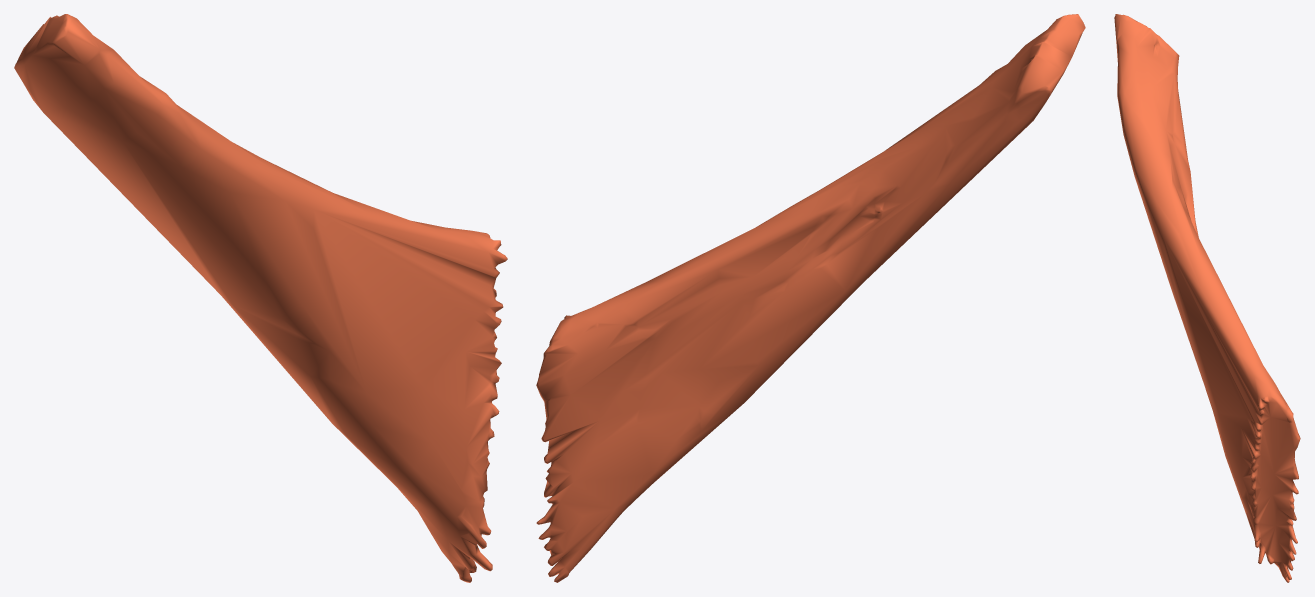
Rendered from Adductor_minimus.l_Generated_Mesh_From_X3D.1010.glb.
3 views of the same model, side by side, from view 1: azimuth 30°, elevation 25°; view 2: azimuth 150°, elevation 25°; view 3: azimuth 270°, elevation 25° (orthographic). The views are drawn at different scales.
Visible parts, largest first — view 1: Adductor_minimus.l_Generated_Mesh_From_X3D.1010; view 2: Adductor_minimus.l_Generated_Mesh_From_X3D.1010; view 3: Adductor_minimus.l_Generated_Mesh_From_X3D.1010.
Part boxes in pixels (x1,y1,x2,y2): Adductor_minimus.l_Generated_Mesh_From_X3D.1010: [14, 14, 507, 582]; Adductor_minimus.l_Generated_Mesh_From_X3D.1010: [536, 14, 1085, 582]; Adductor_minimus.l_Generated_Mesh_From_X3D.1010: [1114, 14, 1300, 582].
Size of the model in its own units: 0.0801 by 0.1044 by 0.0414.
